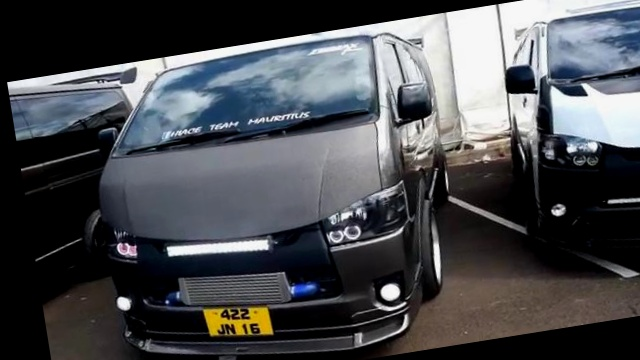van: (71, 19, 478, 360), (482, 1, 640, 272)
